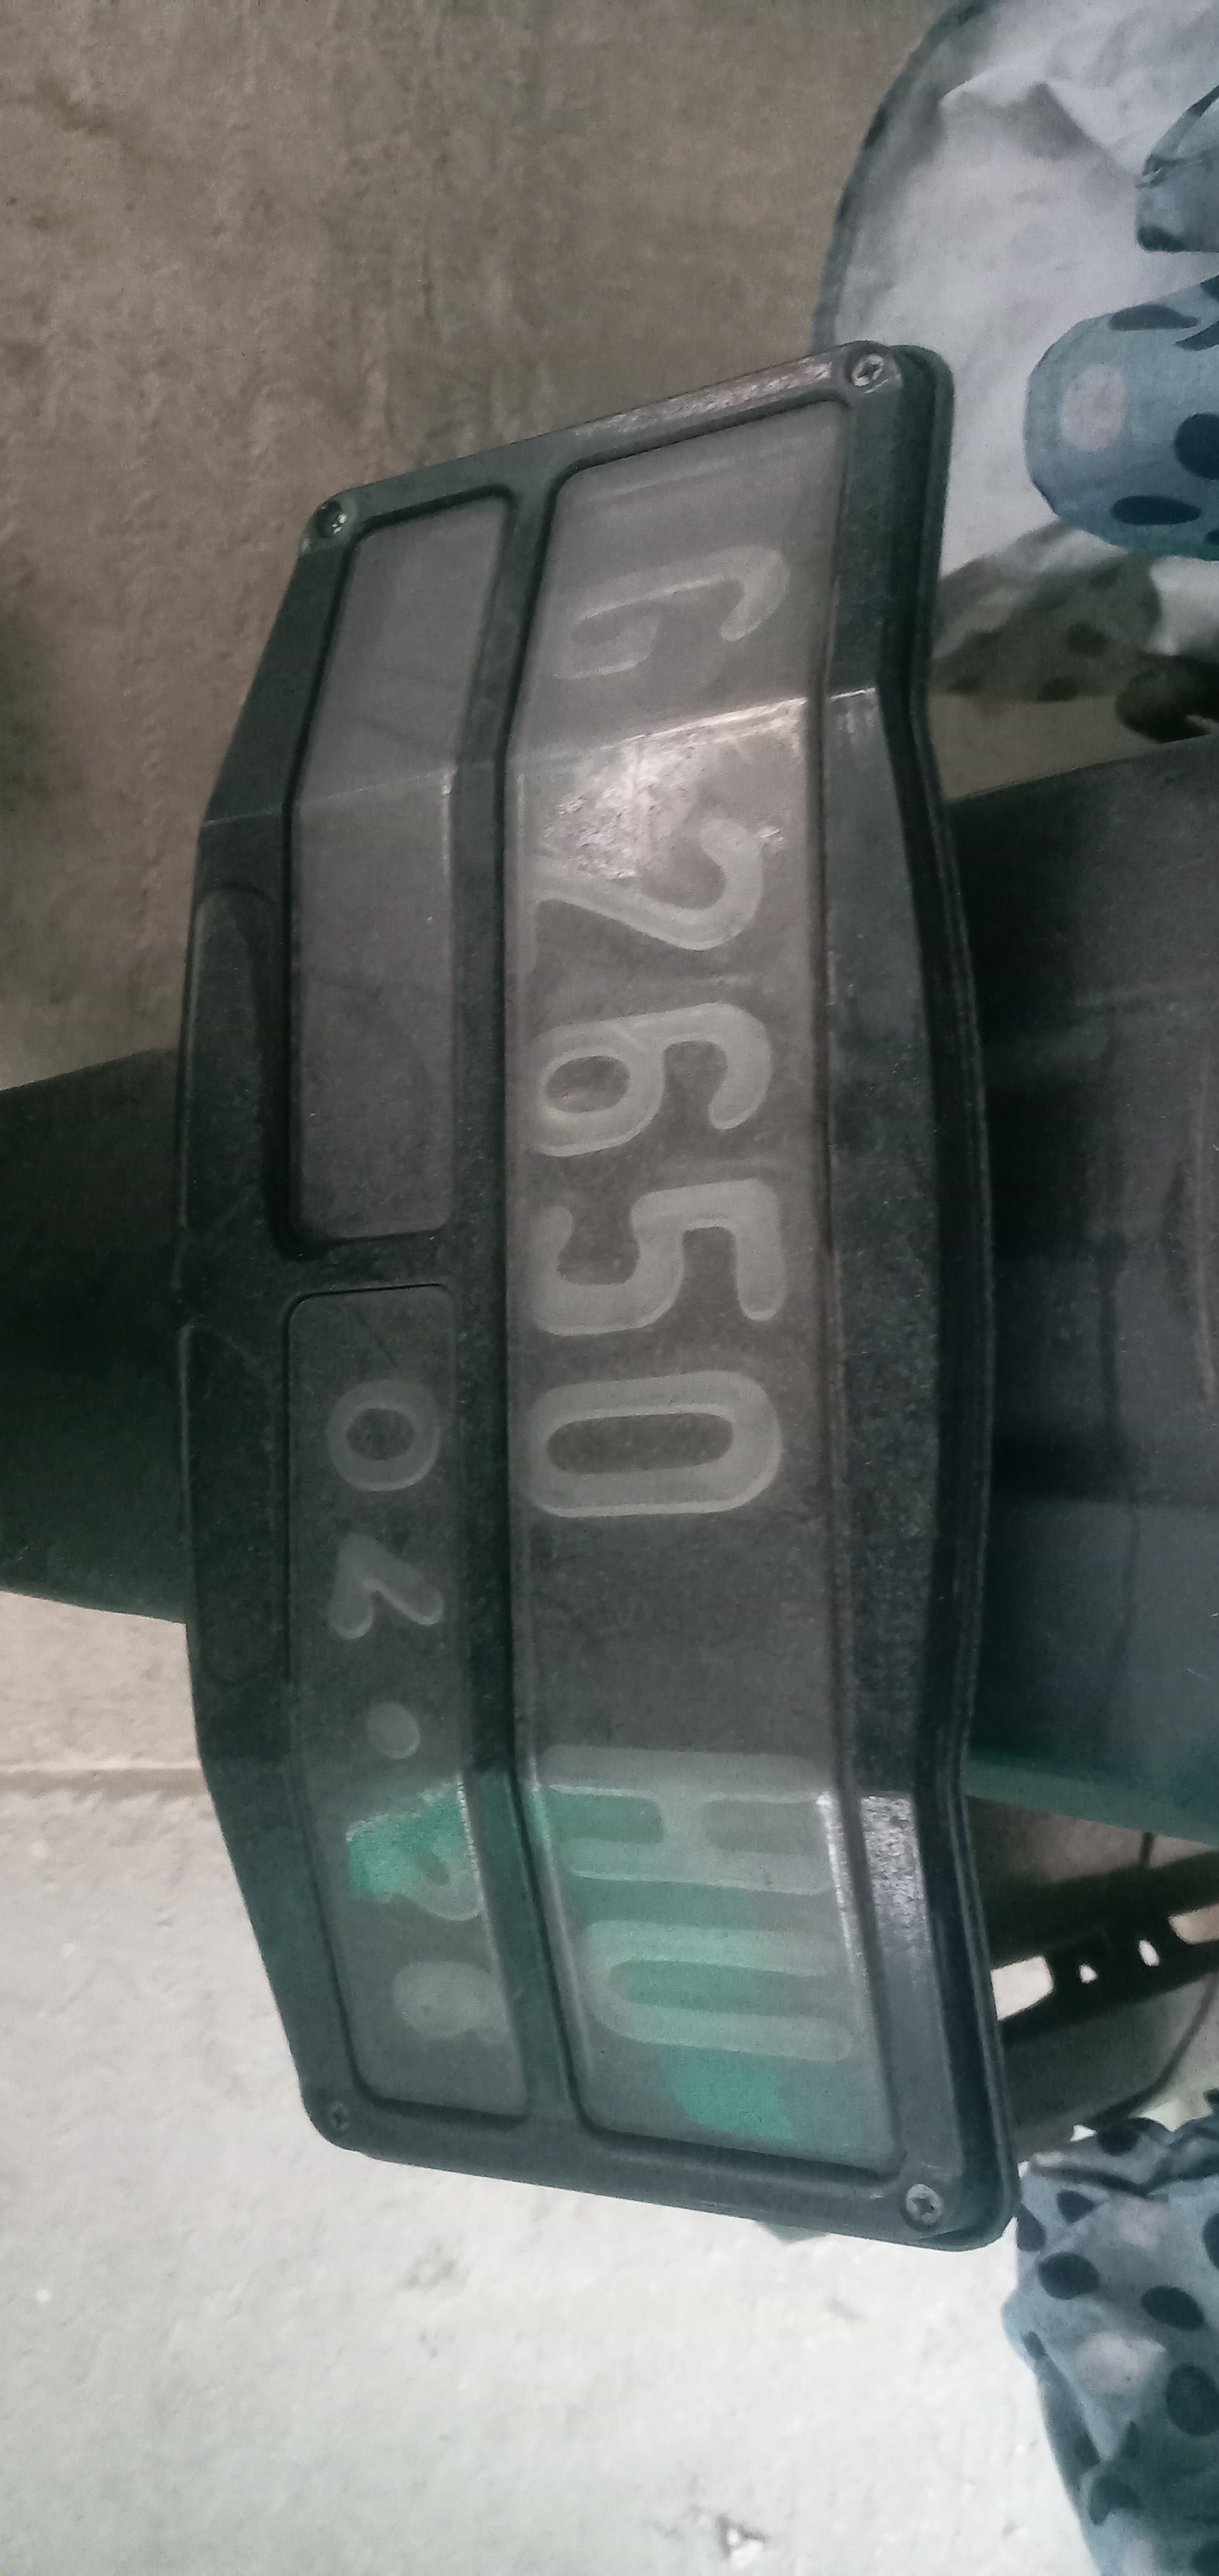plat_nomor: (217, 347, 1075, 2374)
